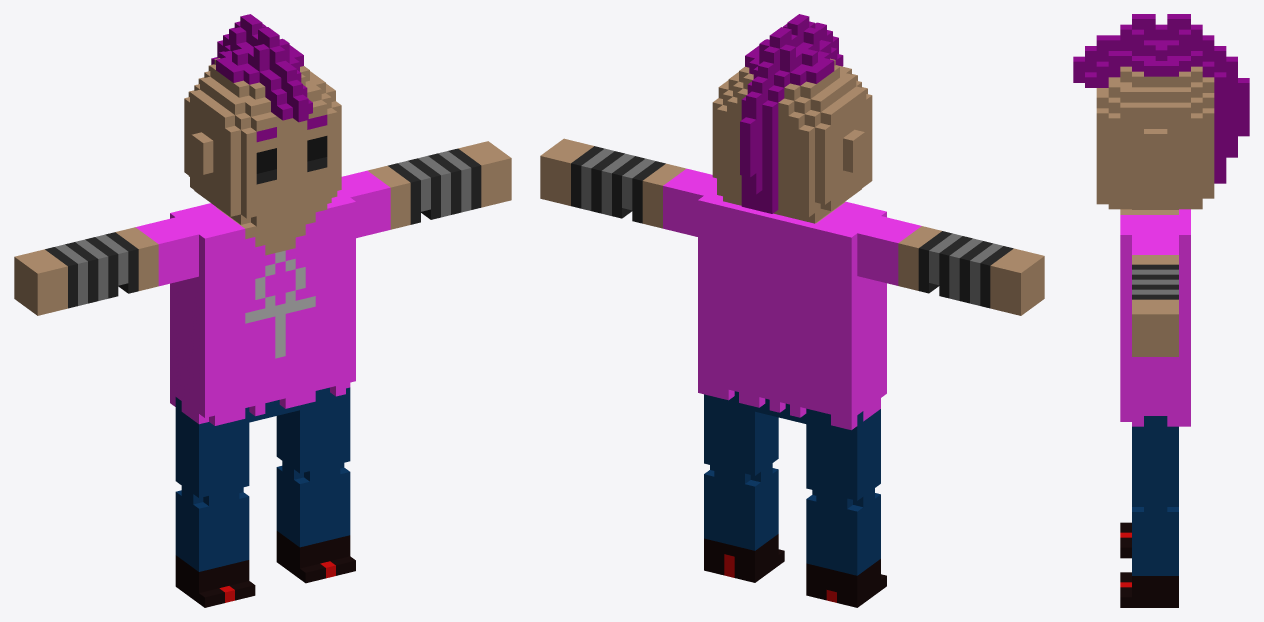
File: character6.obj
3 renders of one model, left to right at view 1: azimuth 30°, elevation 25°; view 2: azimuth 150°, elevation 25°; view 3: azimuth 270°, elevation 25°, orthographic.
Bounding box in the file's own units: 4.7 × 5.2 × 1.5.
1 material, 1 textured.
